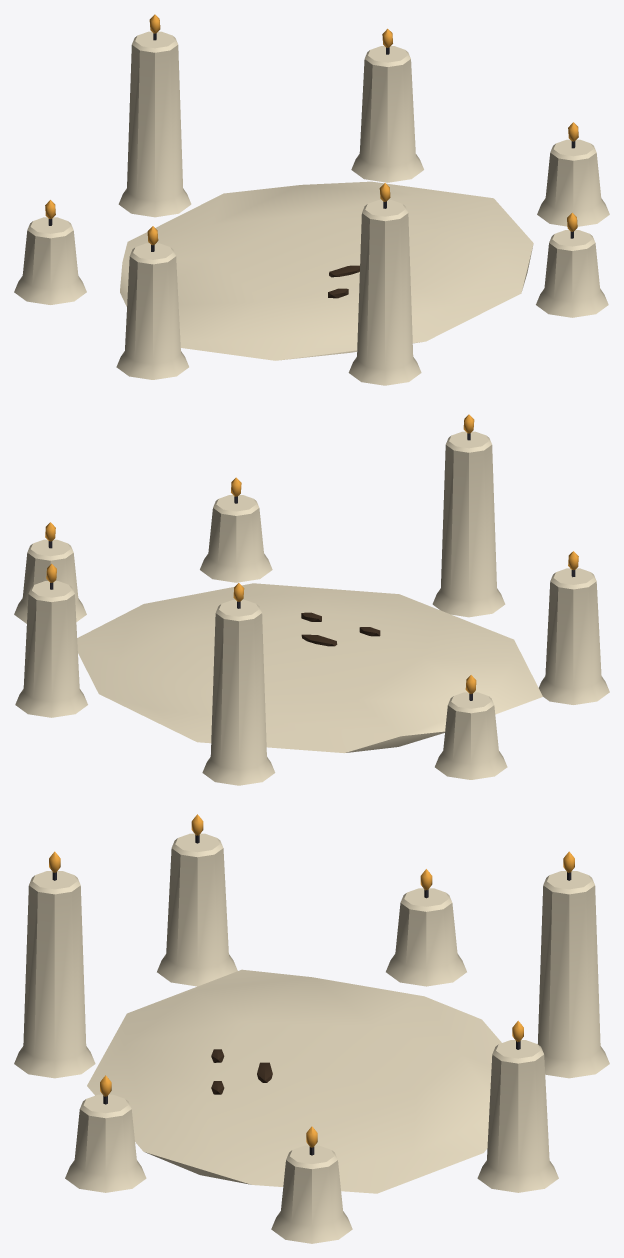
Rendered from candle_grave.glb.
The picture shows the model from 3 angles, top to bottom: view 1: azimuth 30°, elevation 25°; view 2: azimuth 150°, elevation 25°; view 3: azimuth 270°, elevation 25°; orthographic projection. The views are drawn at different scales.
Parts seen in each view (by area): view 1: candle_grave; view 2: candle_grave; view 3: candle_grave.
Part boxes in pixels (<box>): candle_grave: <box>14,14,609,385</box>; candle_grave: <box>14,414,609,785</box>; candle_grave: <box>14,814,609,1243</box>.
Size of the model in its own units: 3.66 by 1.29 by 3.16.
